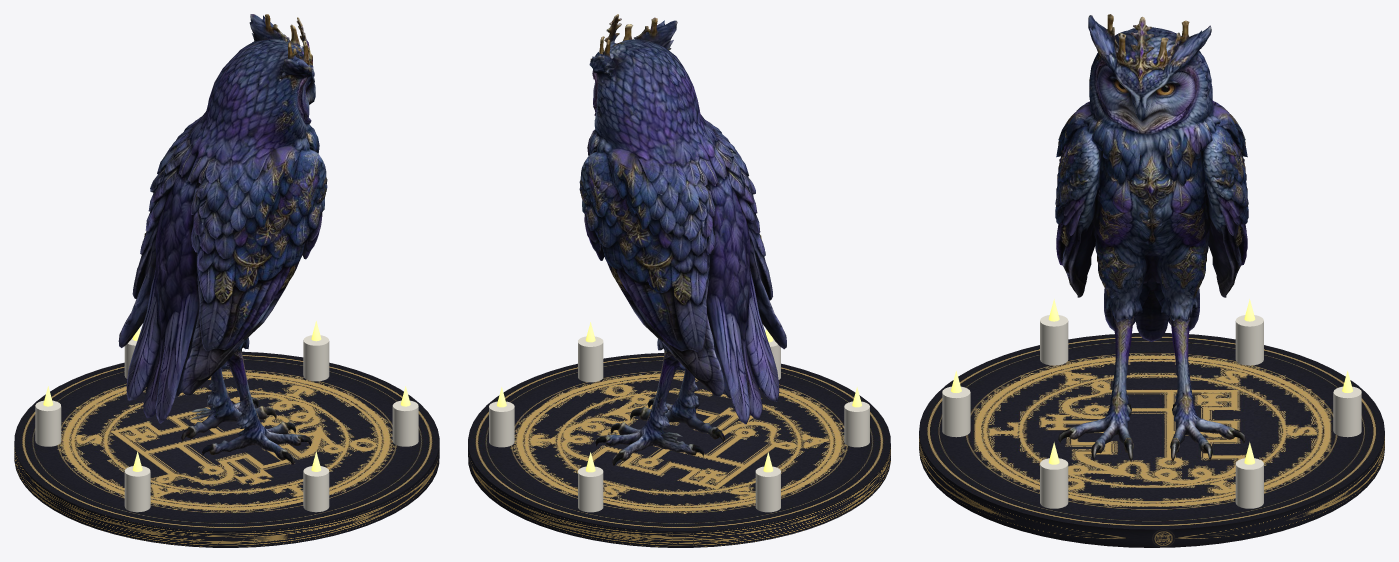
The model's file is stolas.glb.
The picture shows the model from 3 angles, left to right: view 1: azimuth 30°, elevation 25°; view 2: azimuth 150°, elevation 25°; view 3: azimuth 270°, elevation 25°; orthographic projection. The views are drawn at different scales.
Parts seen in each view (by area): view 1: tripo_node_c481eb48-1fcb-4883-ac95-af2b3efff69b, object 2, object 3, object 4; view 2: tripo_node_c481eb48-1fcb-4883-ac95-af2b3efff69b, object 2, object 3, object 4; view 3: object 2, tripo_node_c481eb48-1fcb-4883-ac95-af2b3efff69b, object 3, object 4.
Part boxes in pixels (box(x1,y1,x2,y2)): tripo_node_c481eb48-1fcb-4883-ac95-af2b3efff69b: box(118, 14, 327, 465); object 2: box(14, 351, 439, 547); object 3: box(35, 335, 418, 512); object 4: box(43, 321, 410, 471); tripo_node_c481eb48-1fcb-4883-ac95-af2b3efff69b: box(579, 14, 786, 465); object 2: box(468, 353, 890, 547); object 3: box(489, 336, 869, 512); object 4: box(497, 322, 861, 472); object 2: box(919, 333, 1384, 547); tripo_node_c481eb48-1fcb-4883-ac95-af2b3efff69b: box(1055, 14, 1248, 461); object 3: box(942, 315, 1361, 508); object 4: box(951, 299, 1352, 464).
Size of the model in its own units: 0.92 by 1.02 by 0.92.
Materials: 4 (2 with a texture image).
